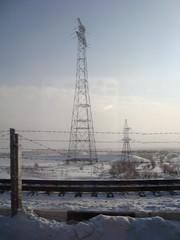power_tower: (67, 17, 99, 167)
